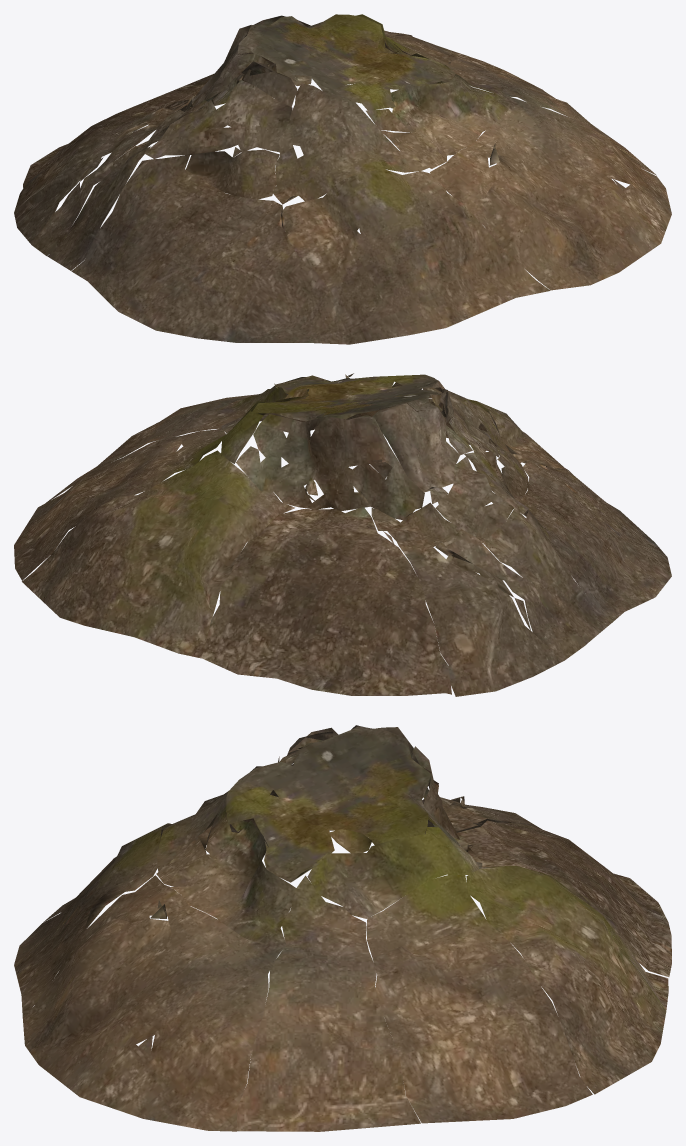
Rendered from stump2_lo.glb.
3 renders of one model, top to bottom at view 1: azimuth 30°, elevation 25°; view 2: azimuth 150°, elevation 25°; view 3: azimuth 270°, elevation 25°, orthographic. The views are drawn at different scales.
Parts seen in each view (by area): view 1: tree_stump_02; view 2: tree_stump_02; view 3: tree_stump_02.
Boxes of the visible parts, box(x1,y1,x2,y2) form: tree_stump_02: box(14, 14, 671, 344); tree_stump_02: box(14, 373, 671, 696); tree_stump_02: box(14, 725, 671, 1131).
Bounding box in the file's own units: 1.52 × 0.5189 × 1.39.
Materials: 1 (1 with a texture image).
